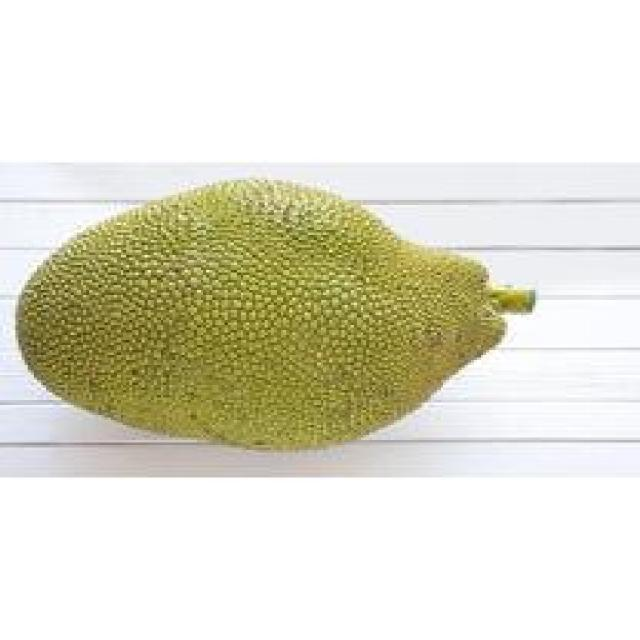Fruit: (157, 175, 520, 467)
